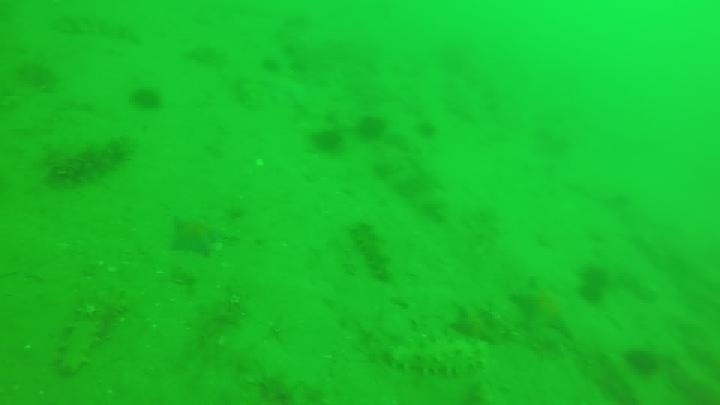echinus: (14, 58, 61, 94), (623, 347, 661, 378), (309, 126, 345, 156), (355, 113, 388, 143), (128, 85, 164, 112), (575, 280, 601, 308), (582, 261, 607, 289), (414, 118, 440, 141), (254, 55, 279, 76), (285, 57, 309, 77), (276, 44, 300, 64)
holothurian: (54, 288, 130, 376), (41, 134, 135, 188), (383, 337, 491, 379), (52, 10, 144, 45), (347, 220, 395, 284)
starfish: (509, 277, 577, 340), (167, 213, 234, 259), (448, 303, 502, 346)
